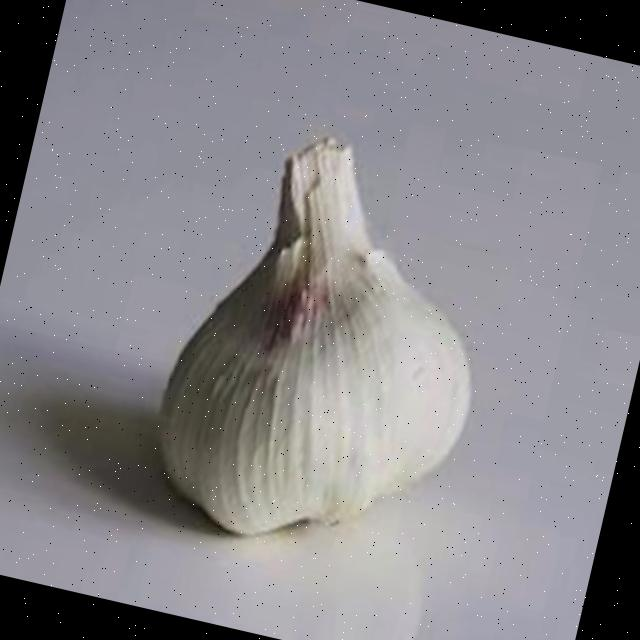garlic: (160, 137, 470, 534)
